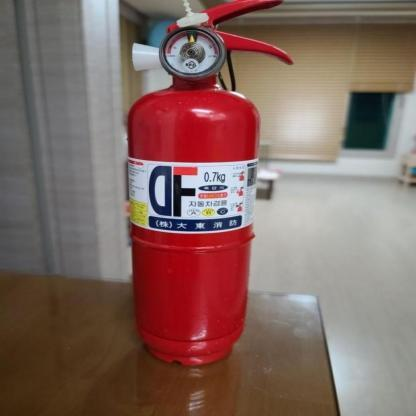Fire Extinguisher: (103, 0, 324, 383)
